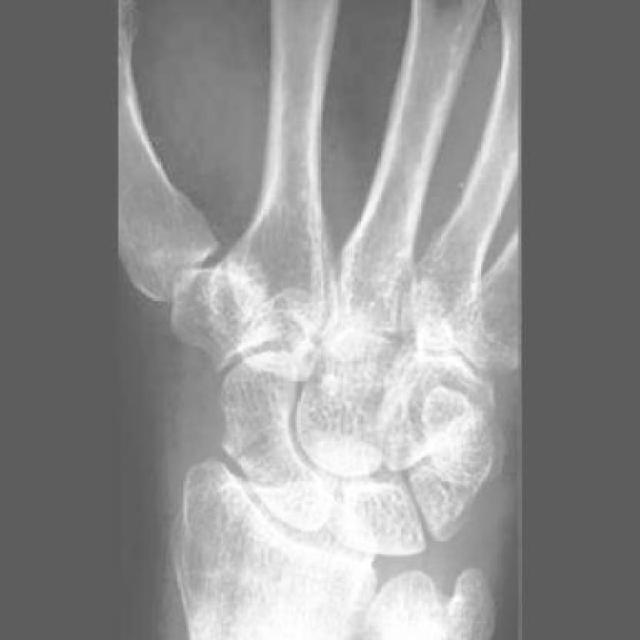Fracture: (222, 426, 279, 460)
